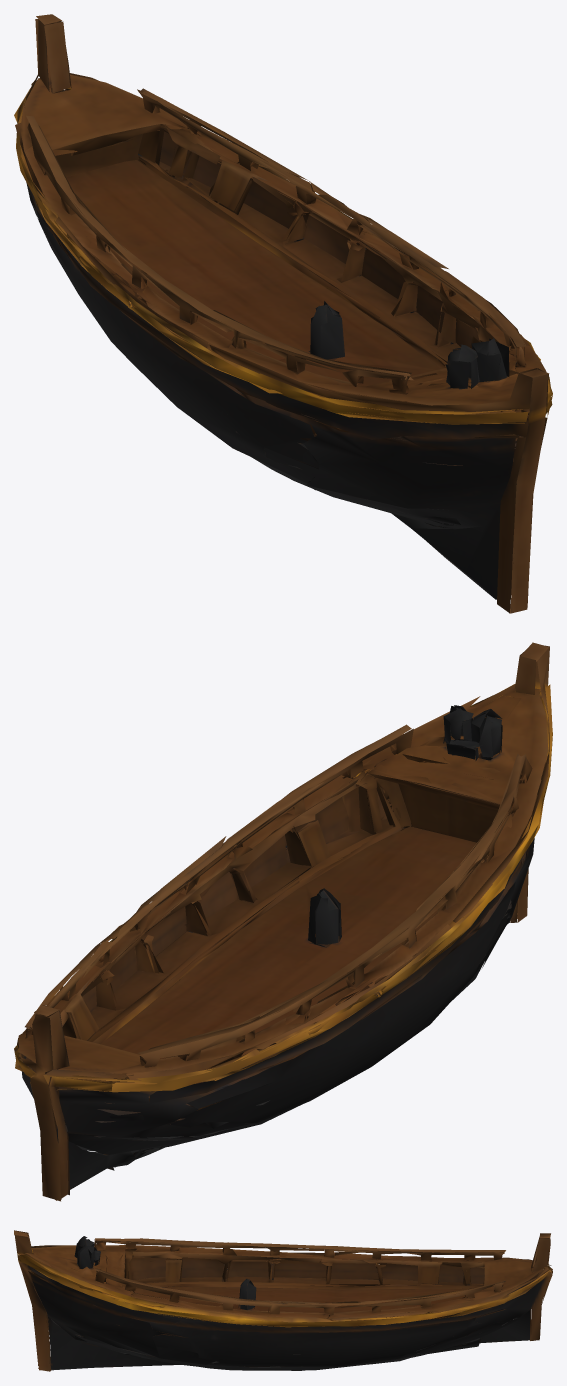
Rendered from prop_launch.glb.
3 renders of one model, top to bottom at view 1: azimuth 30°, elevation 25°; view 2: azimuth 150°, elevation 25°; view 3: azimuth 270°, elevation 25°, orthographic. The views are drawn at different scales.
Visible parts, largest first — view 1: Mesh_0; view 2: Mesh_0; view 3: Mesh_0.
Part boxes in pixels (box(x1,y1,x2,y2)): Mesh_0: box(14, 14, 552, 613); Mesh_0: box(14, 642, 552, 1201); Mesh_0: box(14, 1230, 552, 1371).
Size of the model in its own units: 2.68 by 2.52 by 9.
Materials: 1 (1 with a texture image).
